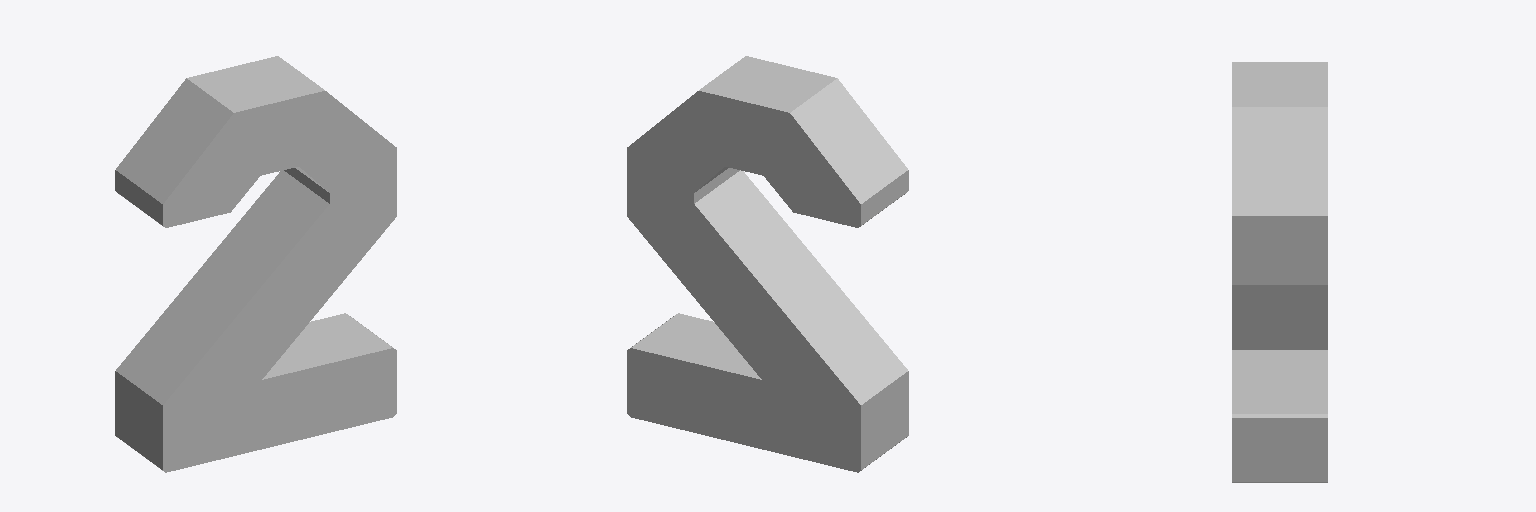
3 views of the same model, side by side, from view 1: azimuth 30°, elevation 25°; view 2: azimuth 150°, elevation 25°; view 3: azimuth 270°, elevation 25° (orthographic).
Parts seen in each view (by area): view 1: text: ABCDEFGHIJKLMNOPQRSTUVWXYZ[number redacted]; view 2: text: ABCDEFGHIJKLMNOPQRSTUVWXYZ[number redacted]; view 3: text: ABCDEFGHIJKLMNOPQRSTUVWXYZ[number redacted].
Boxes of the visible parts, <box> form: text: ABCDEFGHIJKLMNOPQRSTUVWXYZ[number redacted]: <box>115,56,396,472</box>; text: ABCDEFGHIJKLMNOPQRSTUVWXYZ[number redacted]: <box>627,56,908,472</box>; text: ABCDEFGHIJKLMNOPQRSTUVWXYZ[number redacted]: <box>1232,62,1327,482</box>.
Bounding box in the file's own units: 70.92 × 99.57 × 25.